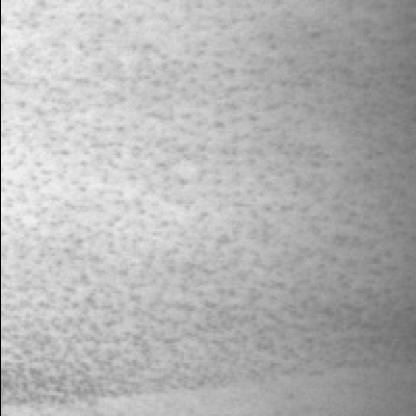pitted_surface: (8, 10, 416, 414)
